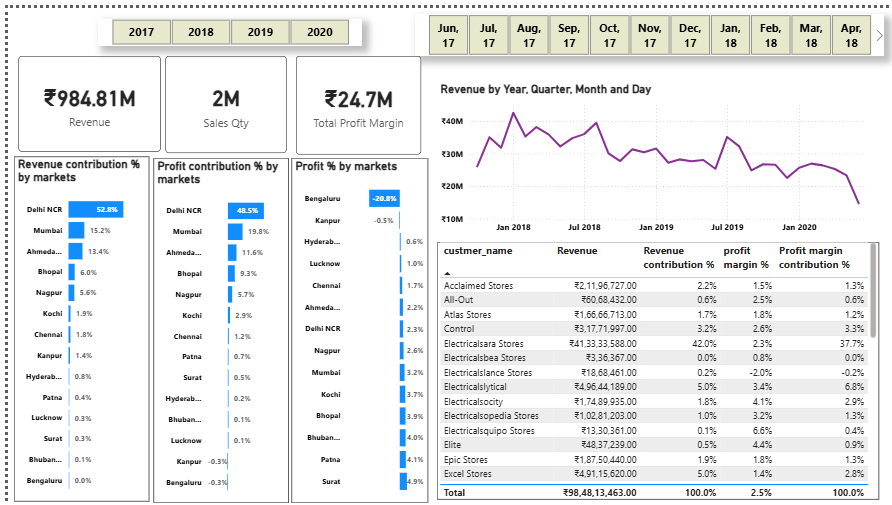

The page's visual inventory and layout, read from the dashboard file:
{"tool":"powerbi","page":{"name":"Profit Analysis","canvas":[1280,720],"ordinal":1},"visuals":[{"type":"card","fields":{"Values":["basemeasures.Revenue"]},"box":[14.3,69.4,206.1,138.8],"z":0},{"type":"card","fields":{"Values":["basemeasures.Sales Qty"]},"box":[228.6,69.4,175.5,140.8],"z":1000},{"type":"barChart","title":"Profit contribution % by markets","fields":{"Category":["sales markets.markets_name"],"Y":["basemeasures.Profit margin contribution %"]},"box":[210.2,216.3,195.9,500],"z":2000},{"type":"slicer","title":"Year","fields":{"Values":["sales date.year"]},"box":[361.2,0,381.6,61.2],"z":3000},{"type":"slicer","title":"Cy_date","fields":{"Values":["sales date.cy_date"]},"box":[742.9,0,536.7,61.2],"z":4000},{"type":"lineChart","fields":{"Category":["sales date.cy_date.Variation.Date Hierarchy.Year","sales date.cy_date.Variation.Date Hierarchy.Quarter","sales date.cy_date.Variation.Date Hierarchy.Month","sales date.cy_date.Variation.Date Hierarchy.Day"],"Y":["basemeasures.Revenue"]},"box":[622.4,106.1,640.8,228.6],"z":5000},{"type":"tableEx","title":"Top 5 Customers by Revenue","fields":{"Values":["sales customers.custmer_name","basemeasures.Revenue","basemeasures.Revenue contribution %","basemeasures.profit margin %","basemeasures.Profit margin contribution %"]},"box":[622.4,338.8,640.8,373.5],"z":6000},{"type":"card","fields":{"Values":["basemeasures.total Profit margin"]},"box":[416.3,69.4,181.6,142.9],"z":7000},{"type":"barChart","title":"Revenue contribution % by markets","fields":{"Category":["sales markets.markets_name"],"Y":["basemeasures.Revenue contribution %"]},"box":[8.2,214.3,195.9,500],"z":8000},{"type":"barChart","title":"Profit % by markets","fields":{"Category":["sales markets.markets_name"],"Y":["basemeasures.profit margin %"]},"box":[410.2,216.3,198,500],"z":9000}]}

Visuals, with their boxes in screenshot pixels (x1, y1, x2, y2), scaled from the page's 1280x720 canvas onto the 892x505 screenshot:
card - basemeasures.Revenue: 10:49:154:146
card - basemeasures.Sales Qty: 159:49:282:147
"Profit contribution % by markets" barChart: 146:152:283:502
"Year" slicer: 252:0:518:43
"Cy_date" slicer: 518:0:891:43
lineChart - sales date.cy_date.Variation.Date Hierarchy.Year x sales date.cy_date.Variation.Date Hierarchy.Quarter: 434:74:880:235
"Top 5 Customers by Revenue" tableEx: 434:238:880:500
card - basemeasures.total Profit margin: 290:49:417:149
"Revenue contribution % by markets" barChart: 6:150:142:501
"Profit % by markets" barChart: 286:152:424:502
